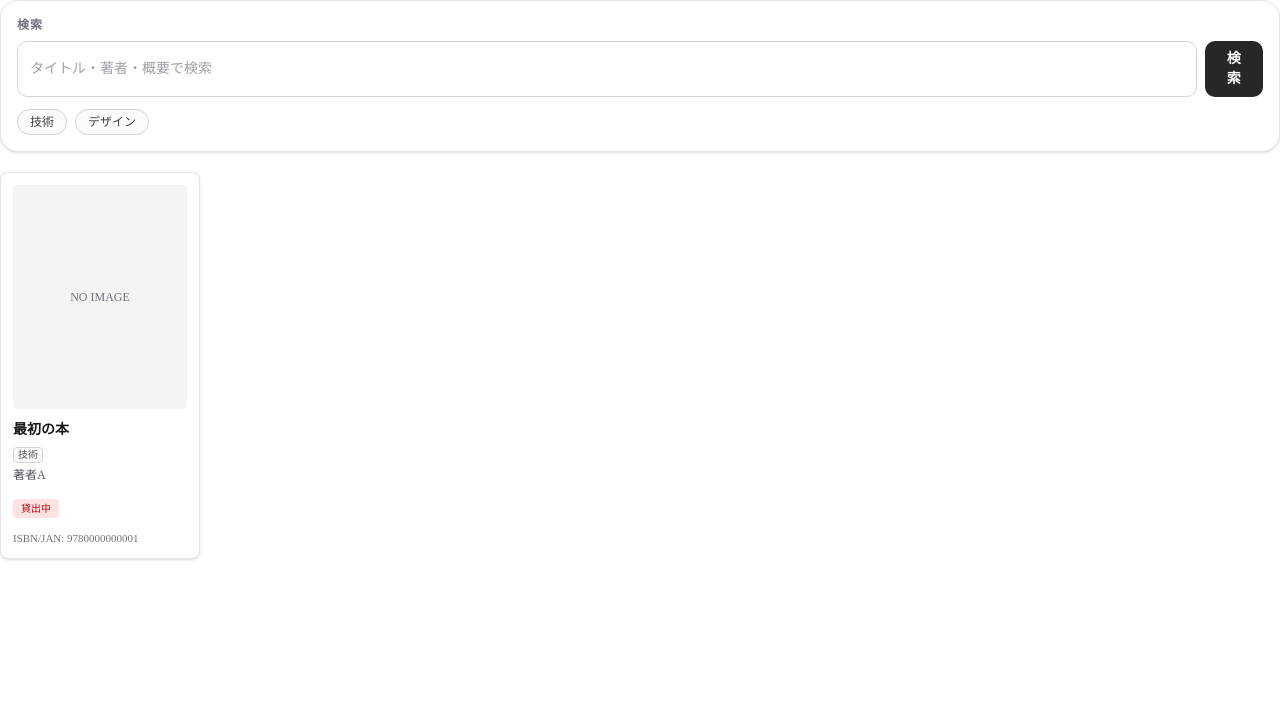
BookListClient › 選択したジャンルを解除できる
Click the button "技術" at [42, 122], box [17,109,67,135]
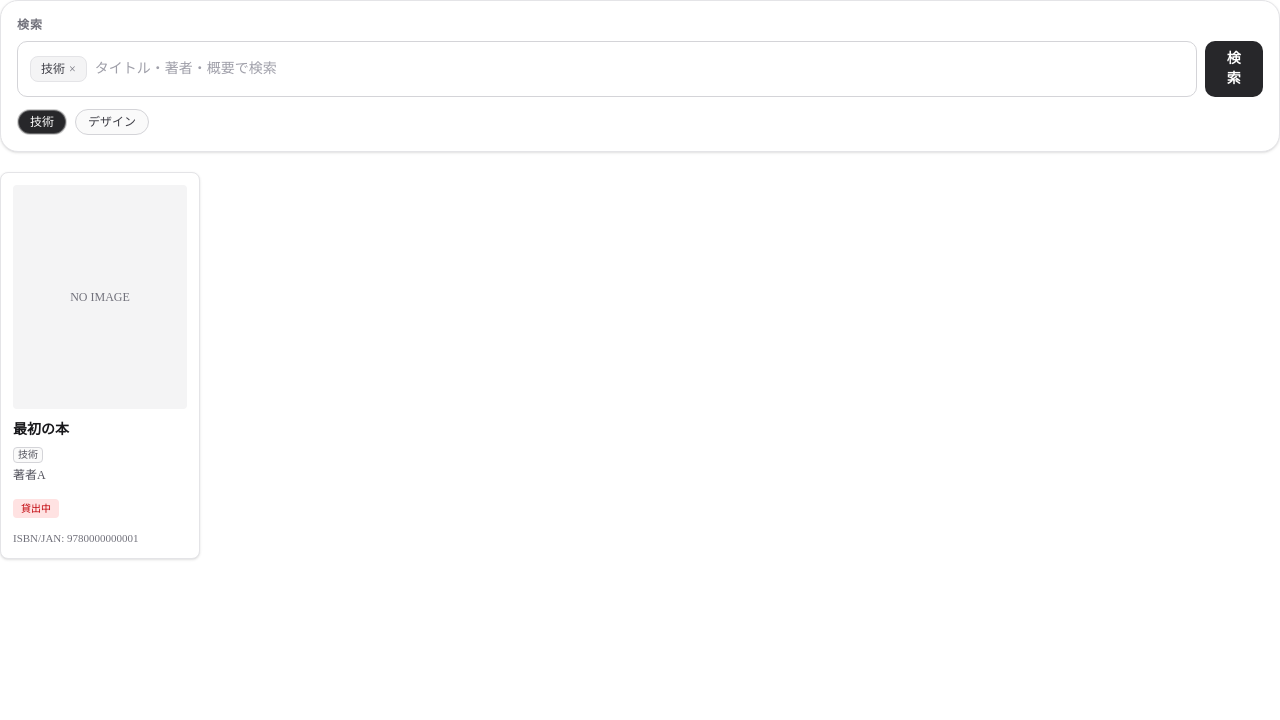
expect the button named "技術を削除" is shown: met
Click the button named "技術を削除" at [72, 69], box [69,61,76,77]
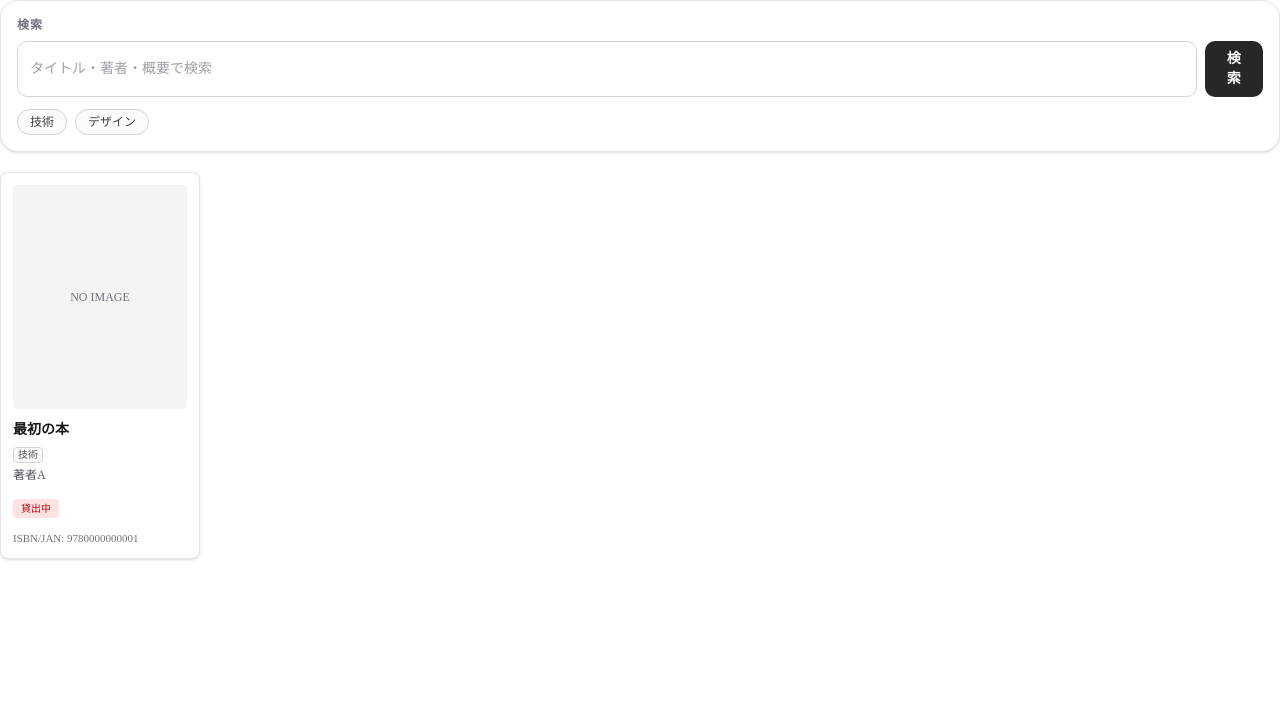
expect the button "技術を削除" is gone: met
